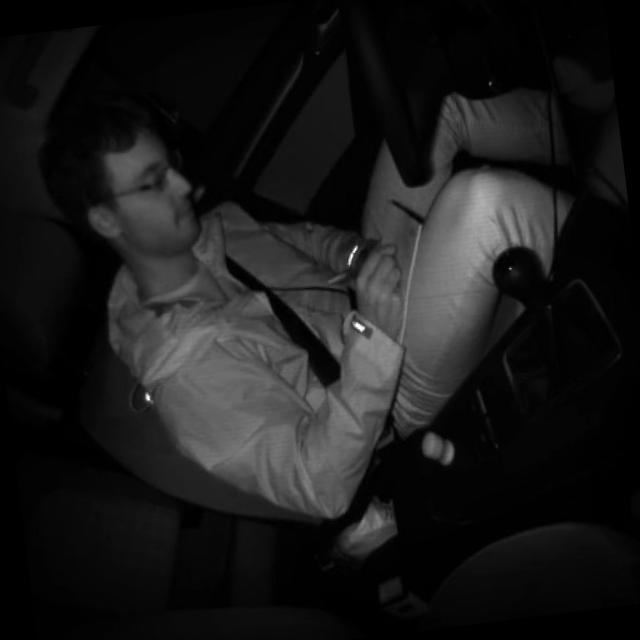pen: (320, 250, 396, 288)
